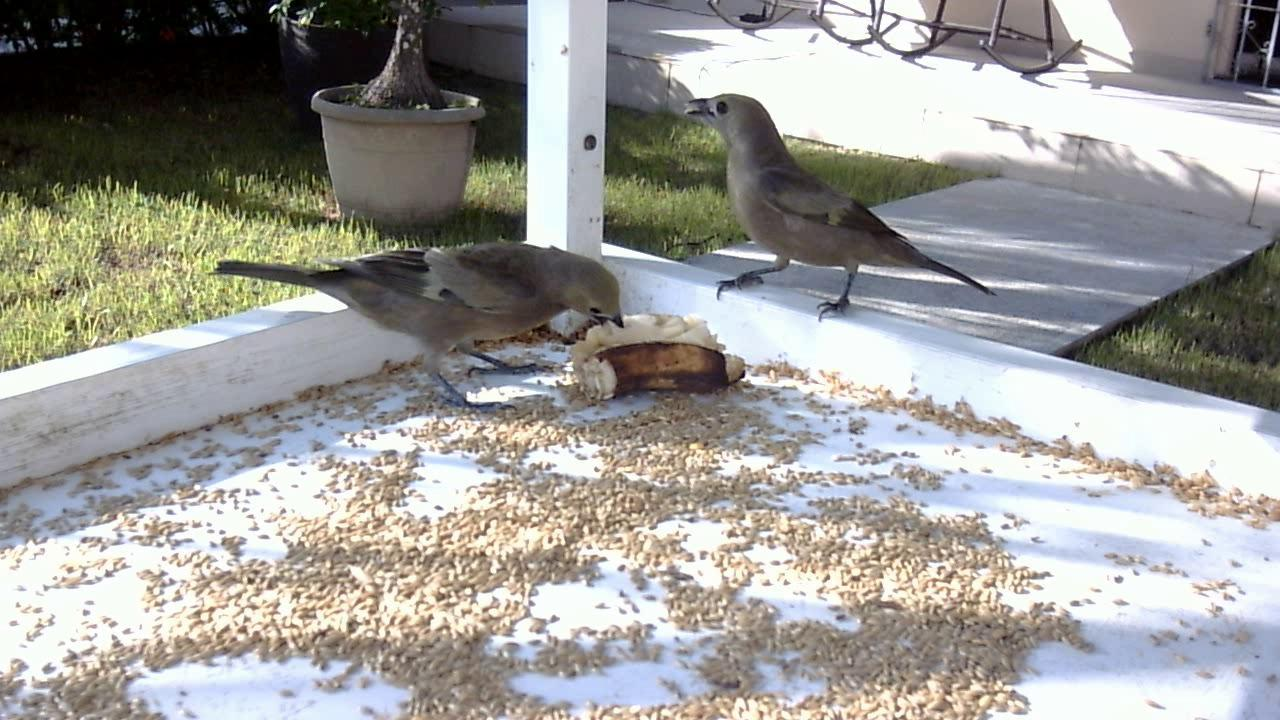sanhaco_do_coqueiro: (668, 80, 1010, 337), (211, 226, 628, 419)
